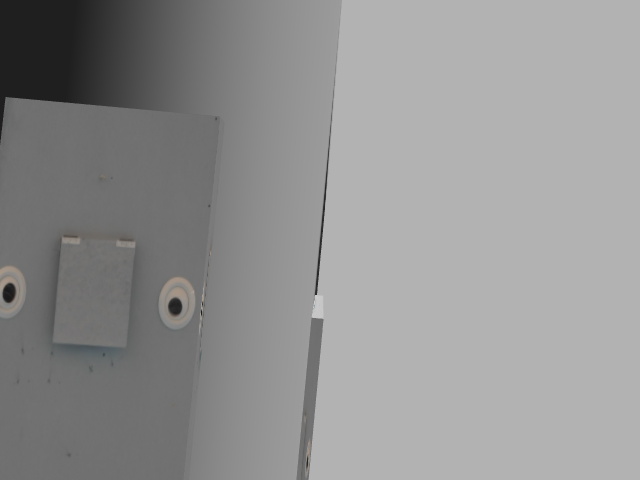facade: (0, 231, 196, 350)
